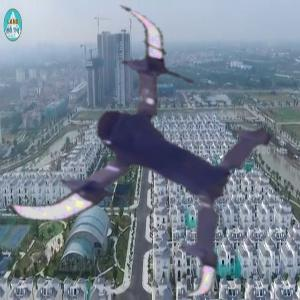drone: (5, 12, 277, 284)
